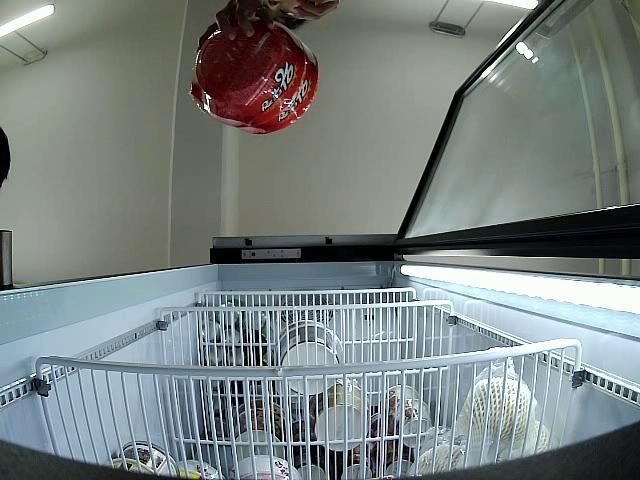10_wangTtukkeong: (192, 20, 296, 118), (251, 46, 318, 134)
